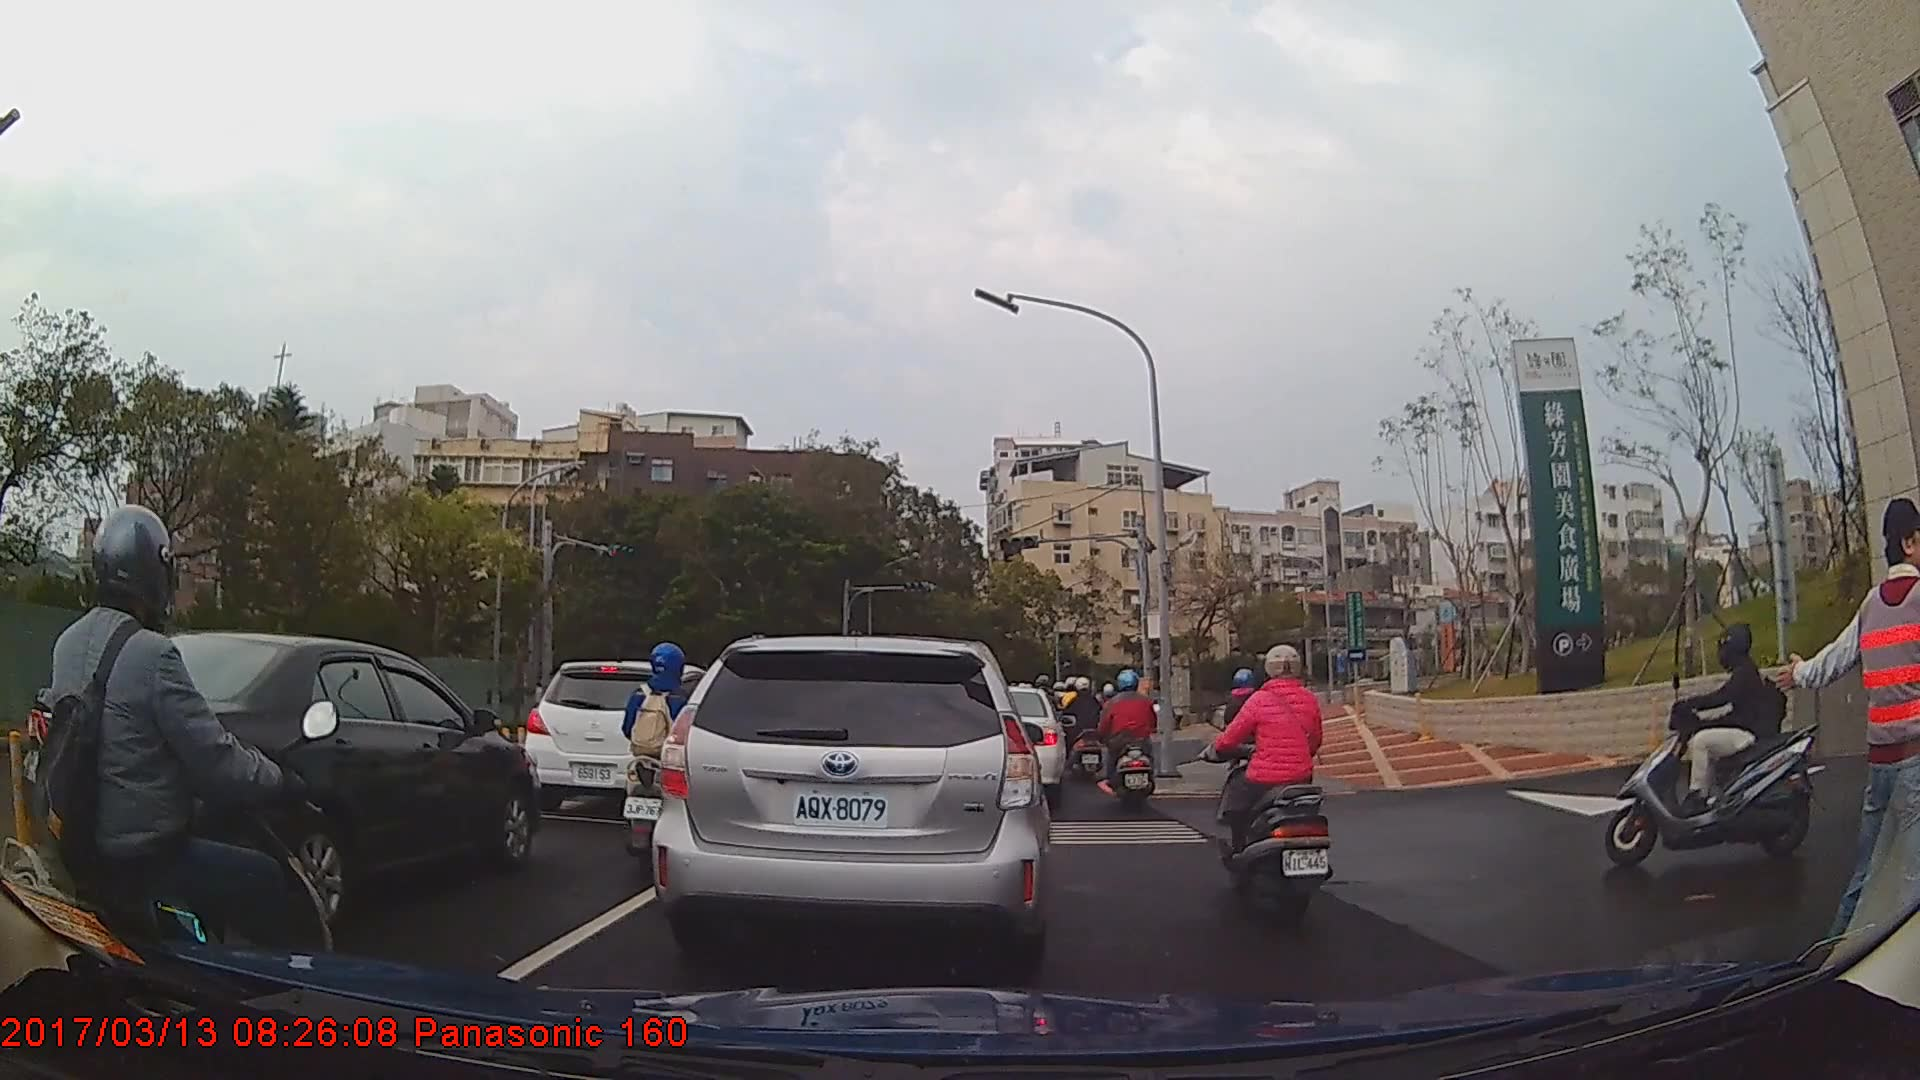pedestrian: (1785, 495, 1920, 979)
rider: (1, 503, 337, 1080), (1607, 628, 1822, 864), (1208, 642, 1331, 930), (621, 636, 711, 877), (1096, 667, 1164, 820), (1066, 674, 1108, 783)
vehicle: (20, 628, 537, 931), (650, 634, 1053, 954), (522, 660, 733, 823), (960, 684, 1067, 800)
